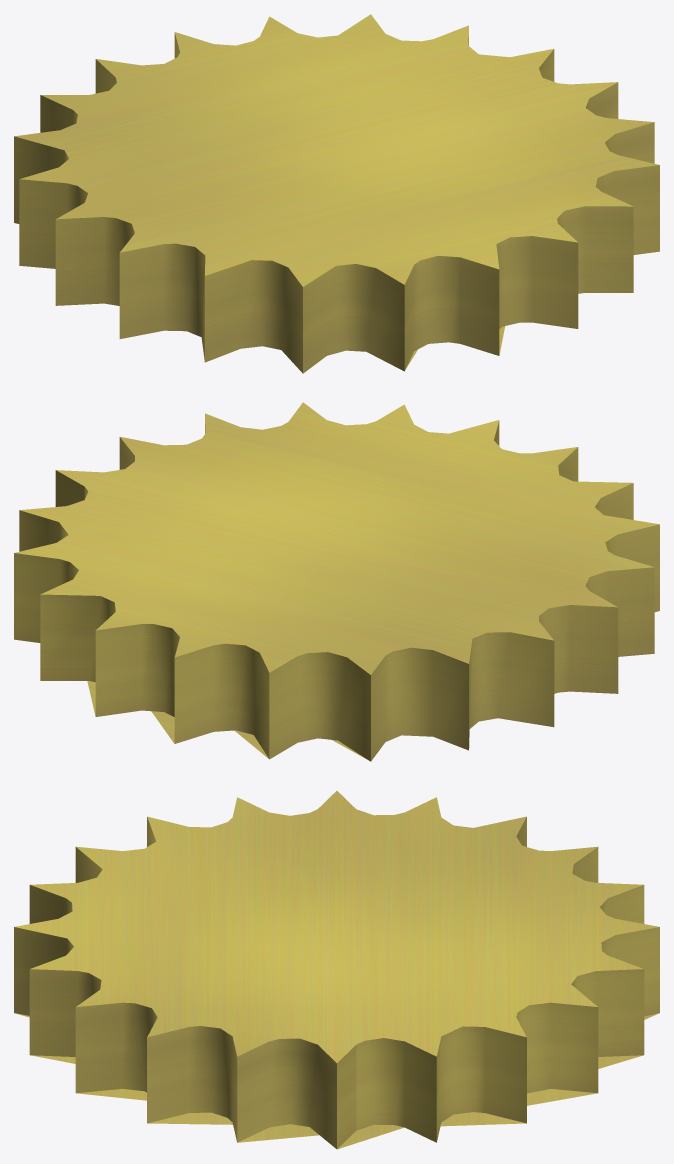
File: Sprocket4Spoke020.fbx
The picture shows the model from 3 angles, top to bottom: view 1: azimuth 30°, elevation 25°; view 2: azimuth 150°, elevation 25°; view 3: azimuth 270°, elevation 25°; orthographic projection.
Parts seen in each view (by area): view 1: Sprocket4Spoke020; view 2: Sprocket4Spoke020; view 3: Sprocket4Spoke020.
Boxes of the visible parts, <box> form: Sprocket4Spoke020: <box>14,14,659,373</box>; Sprocket4Spoke020: <box>14,402,659,761</box>; Sprocket4Spoke020: <box>14,791,659,1149</box>.
Bounding box in the file's own units: 134 × 19.69 × 134.
